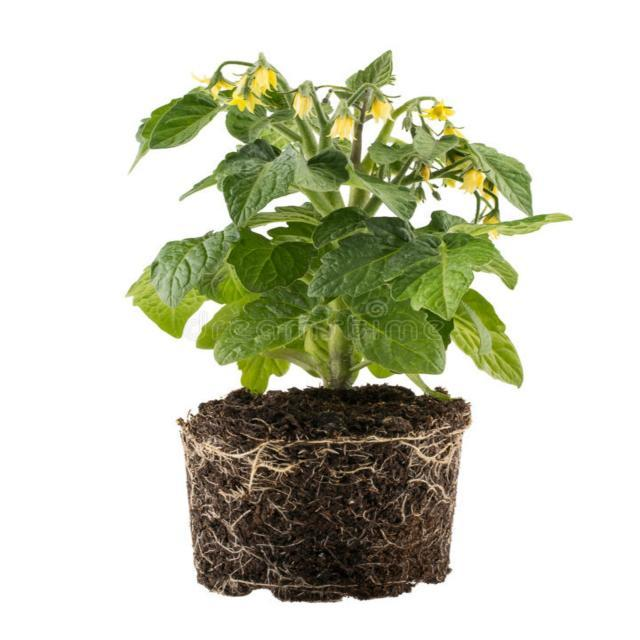plant: (127, 51, 571, 400)
